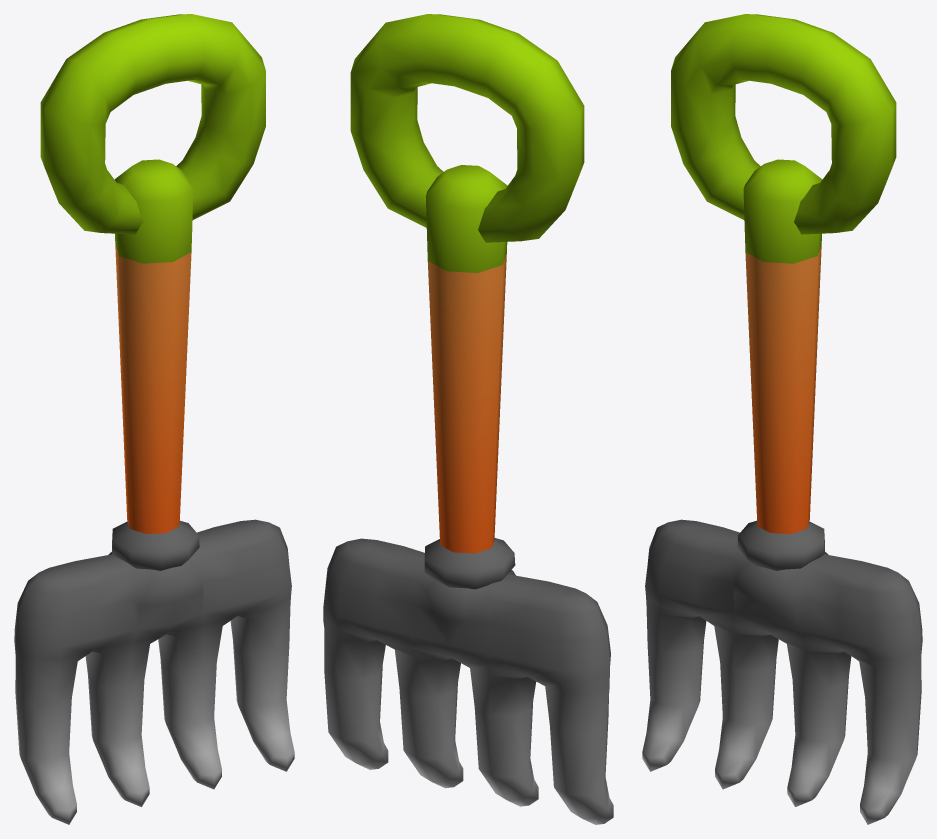
The model's file is Farm_Tool_Spade_Fork_01.fbx.
The picture shows the model from 3 angles, left to right: view 1: azimuth 30°, elevation 25°; view 2: azimuth 150°, elevation 25°; view 3: azimuth 330°, elevation 25°; orthographic projection. The views are drawn at different scales.
Visible parts, largest first — view 1: Farm_Tool_Spade_Fork_01; view 2: Farm_Tool_Spade_Fork_01; view 3: Farm_Tool_Spade_Fork_01.
Boxes of the visible parts, x1,y1,x2,y2 form: Farm_Tool_Spade_Fork_01: [14, 14, 294, 824]; Farm_Tool_Spade_Fork_01: [323, 14, 613, 824]; Farm_Tool_Spade_Fork_01: [642, 14, 922, 824].
Size of the model in its own units: 43.98 by 117 by 13.63.
